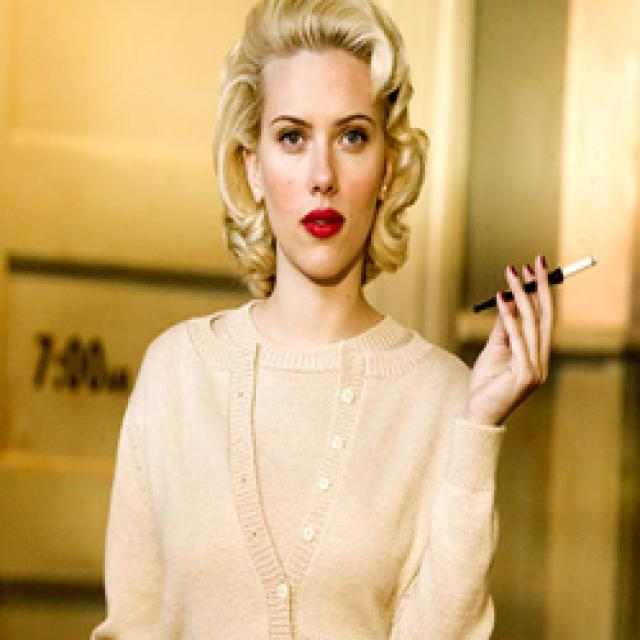Smooking: (451, 242, 611, 320)
